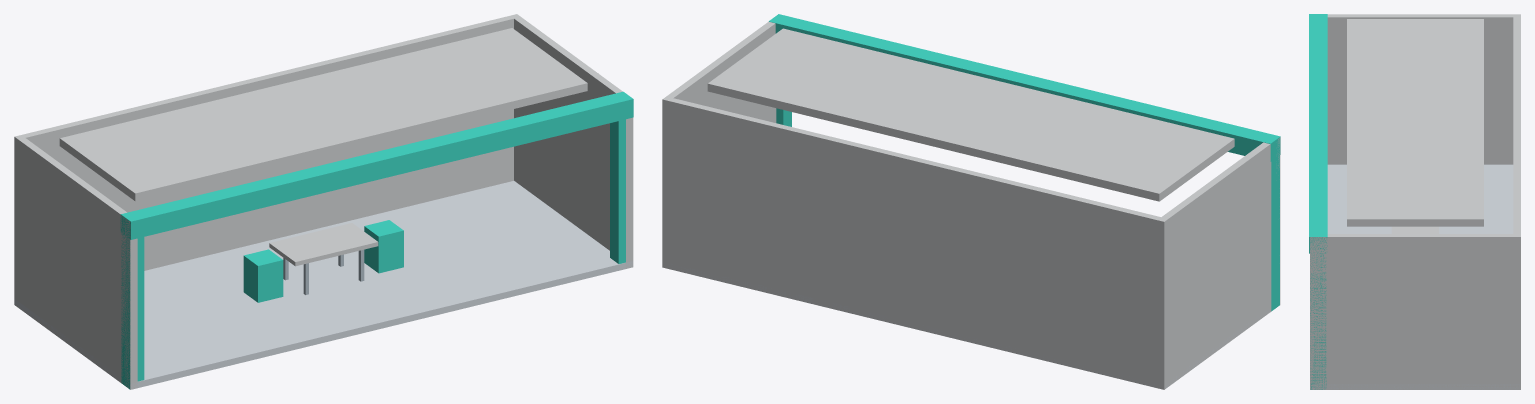
3 views of the same model, side by side, from view 1: azimuth 30°, elevation 25°; view 2: azimuth 150°, elevation 25°; view 3: azimuth 270°, elevation 25° (orthographic). The views are drawn at different scales.
Parts seen in each view (by area): view 1: Exhibition Booth Concept; view 2: Exhibition Booth Concept; view 3: Exhibition Booth Concept.
Part boxes in pixels (left/top/right/bottom): Exhibition Booth Concept: left=14, top=14, right=633, bottom=389; Exhibition Booth Concept: left=662, top=14, right=1280, bottom=389; Exhibition Booth Concept: left=1309, top=14, right=1520, bottom=389.
Bounding box in the file's own units: 10 × 3.34 × 4.02.
